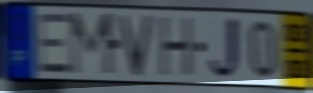0: (246, 19, 279, 80)
E: (36, 12, 74, 75)
H: (159, 15, 194, 79)
J: (206, 14, 244, 83)
M: (68, 11, 117, 79)
V: (117, 13, 156, 79)
